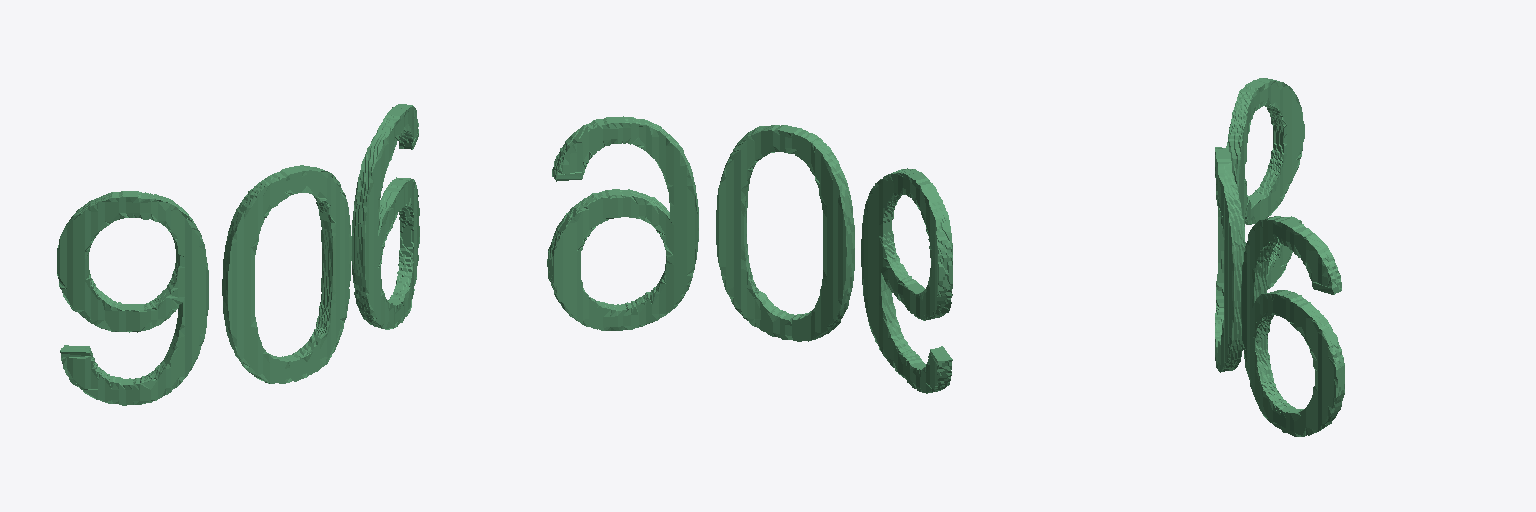
Rendered from port_6.obj.
The picture shows the model from 3 angles: view 1: azimuth 30°, elevation 25°; view 2: azimuth 150°, elevation 25°; view 3: azimuth 270°, elevation 25°; orthographic projection.
Visible parts, largest first — view 1: Text01; view 2: Text01; view 3: Text01.
Boxes of the visible parts, box(x1,y1,x2,y2) form: Text01: box(57, 104, 419, 405); Text01: box(547, 116, 952, 393); Text01: box(1215, 78, 1344, 436).
Size of the model in its own units: 3.06 by 1.59 by 0.9.